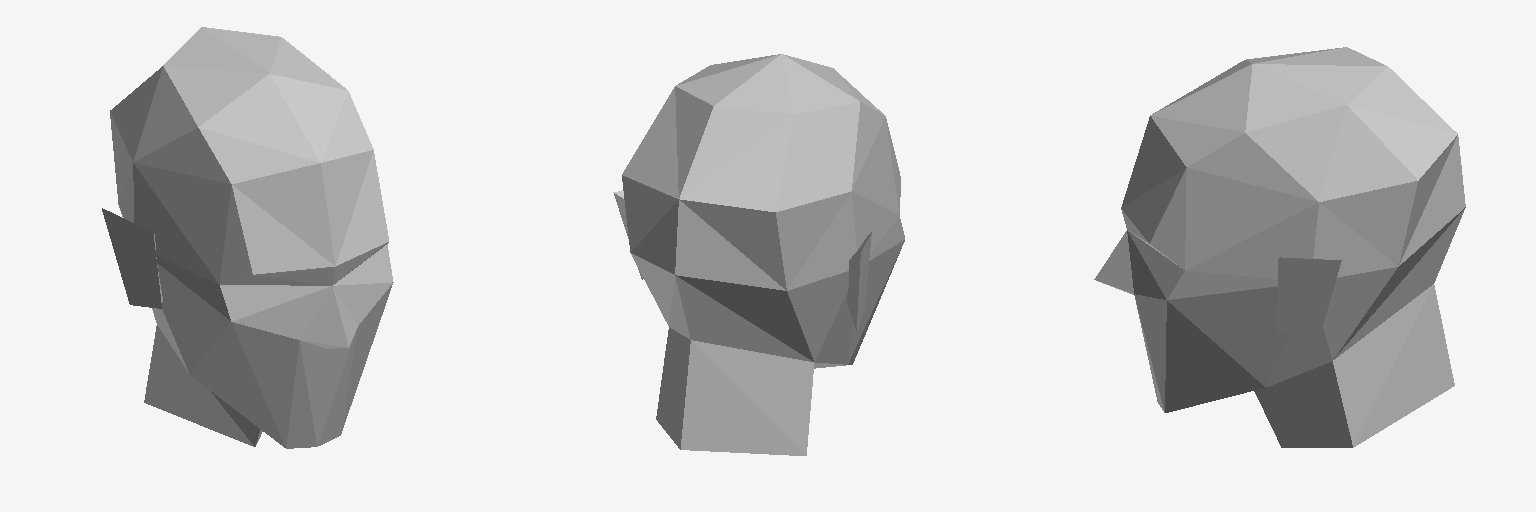
The model's file is 02-head2.obj.
3 views of the same model, side by side, from view 1: azimuth 30°, elevation 25°; view 2: azimuth 150°, elevation 25°; view 3: azimuth 270°, elevation 25° (orthographic).
Visible parts, largest first — view 1: Man.004_Body.004; view 2: Man.004_Body.004; view 3: Man.004_Body.004.
Boxes of the visible parts, x1,y1,x2,y2 form: Man.004_Body.004: [102, 27, 393, 448]; Man.004_Body.004: [613, 54, 904, 455]; Man.004_Body.004: [1094, 47, 1465, 447].
Bounding box in the file's own units: 0.6848 × 1.02 × 0.8906.